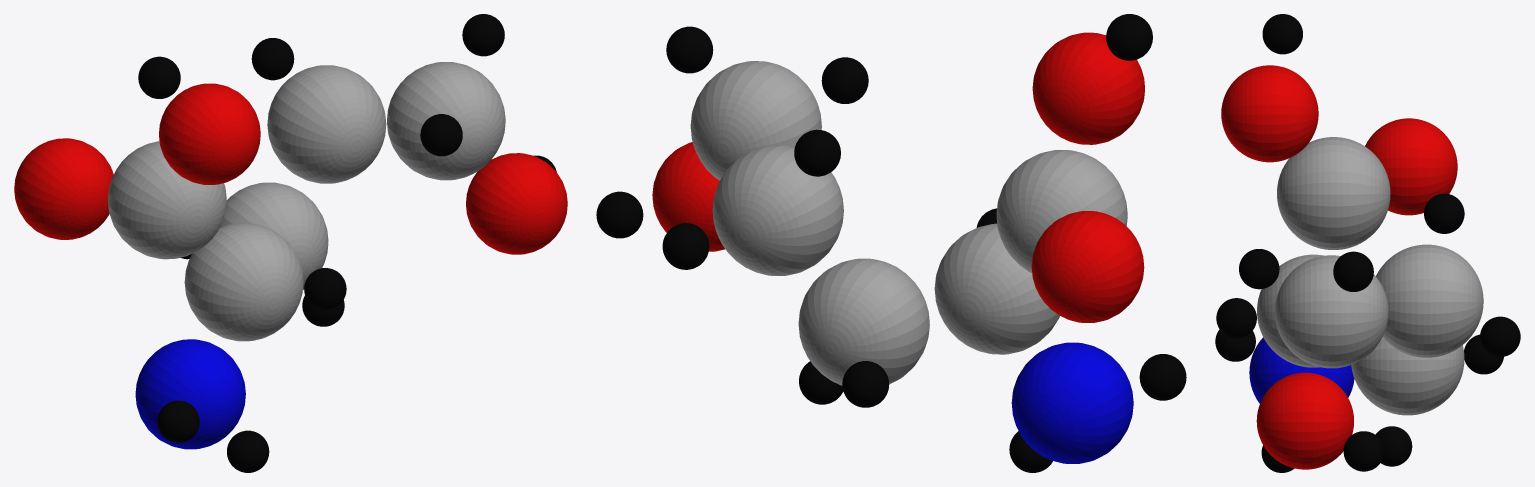
Rendered from GABA (Gamma-Aminobutyric Acid).glb.
The picture shows the model from 3 angles, left to right: view 1: azimuth 30°, elevation 25°; view 2: azimuth 150°, elevation 25°; view 3: azimuth 270°, elevation 25°; orthographic projection. The views are drawn at different scales.
Parts seen in each view (by area): view 1: world; view 2: world; view 3: world.
Part boxes in pixels (x1,y1,x2,y2): world: (14, 14, 567, 472); world: (596, 14, 1186, 472); world: (1215, 14, 1520, 472).
Size of the model in its own units: 6.93 by 5.63 by 3.76.
